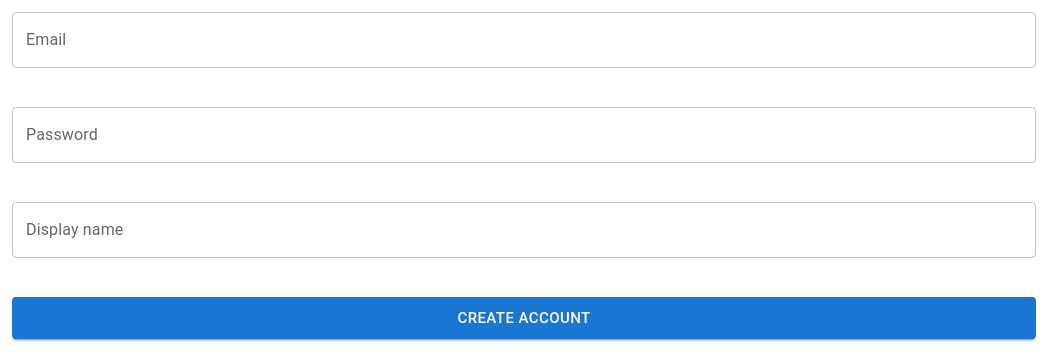
it: RegisterForm › maps a server field error onto the email field
In the field labelled "Email": (524, 40) x1=12 y1=12 x2=1036 y2=68, type "taken@example.com"
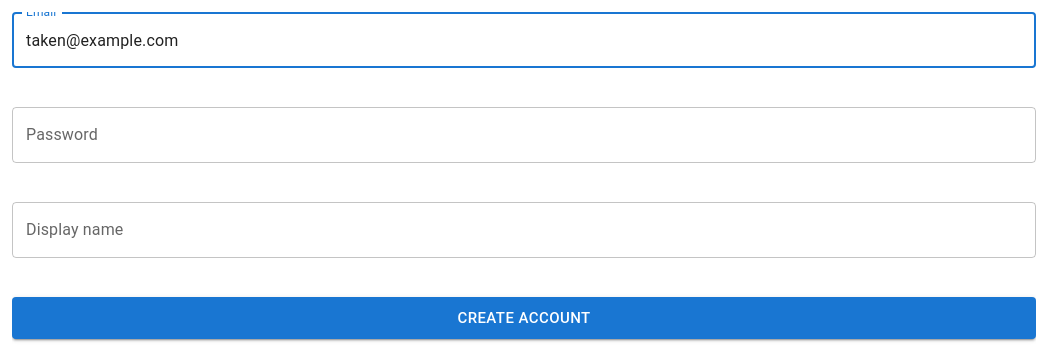
In the password field labelled "Password": (524, 135) x1=12 y1=107 x2=1036 y2=163, type "password123"
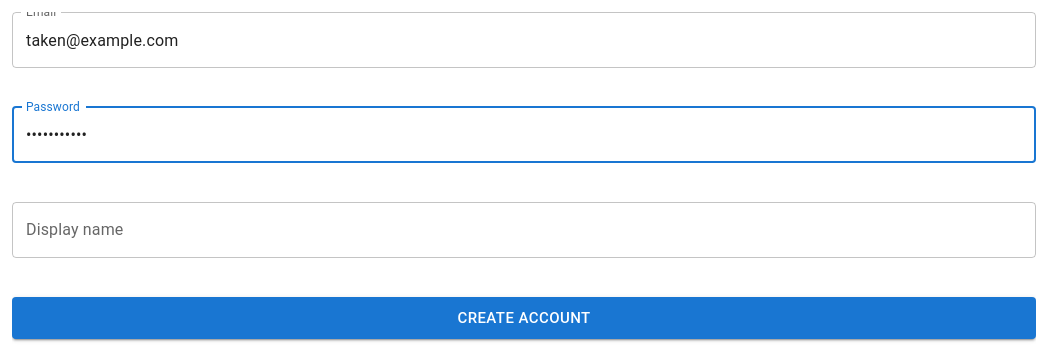
Click the button "Create account": click(524, 318) x1=12 y1=297 x2=1036 y2=339
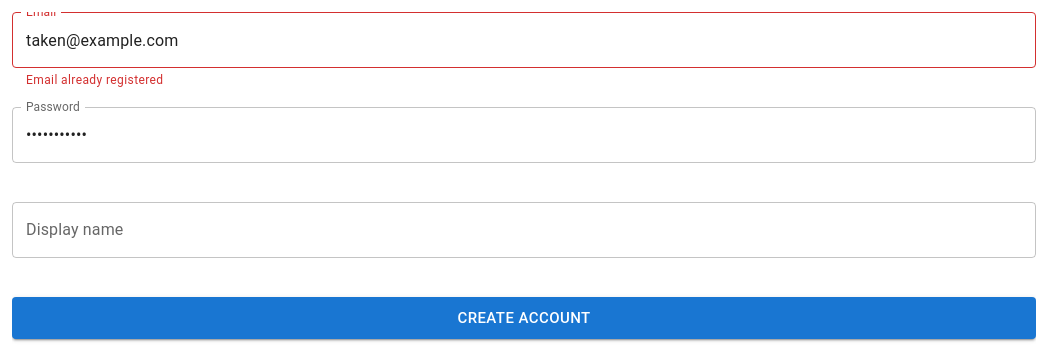
Result: the text "Email already registered" is shown at x1=26 y1=73 x2=164 y2=87
